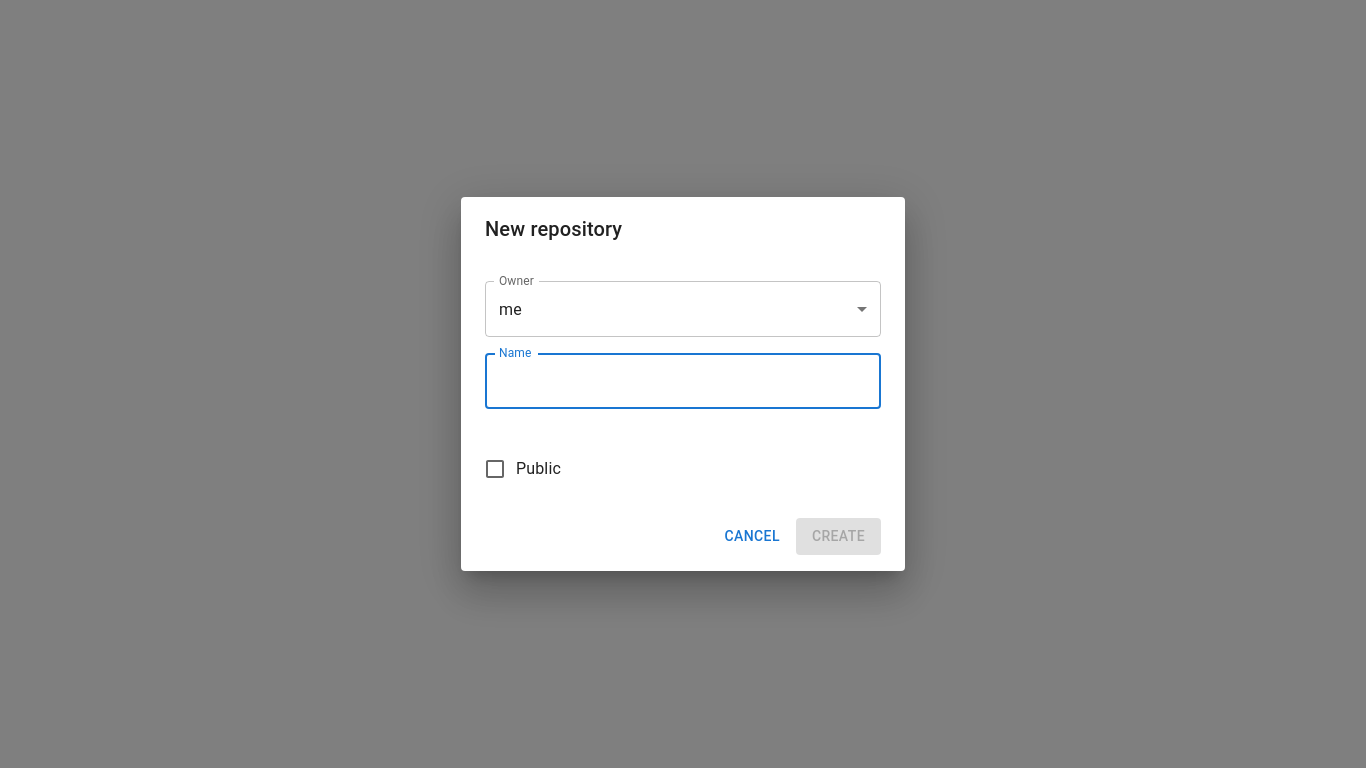
NewRepositoryDialog › validates the name as you type
The width and height of the screenshot is (1366, 768).
Expected: the button "Create" is disabled, [796,518,881,555]
Type "my repo" into the field labelled "Name" at (683, 381), box [485,353,881,409]
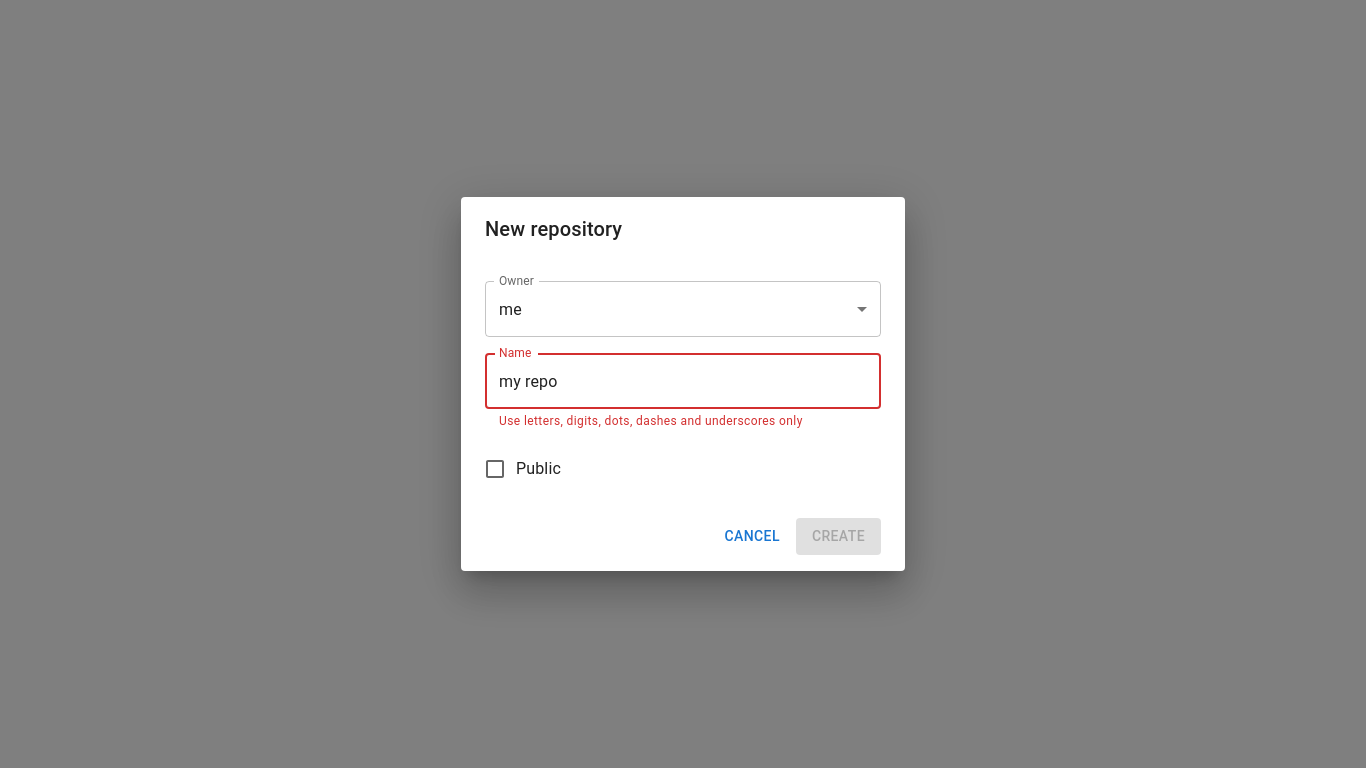
Expected: the button "Create" is disabled, [796,518,881,555]
Now the text "Use letters, digits, dots, dashes and underscores only" is shown, box [499,414,803,428]
Replace the text in the field labelled "Name" with ".hidden" at (683, 381), box [485,353,881,409]
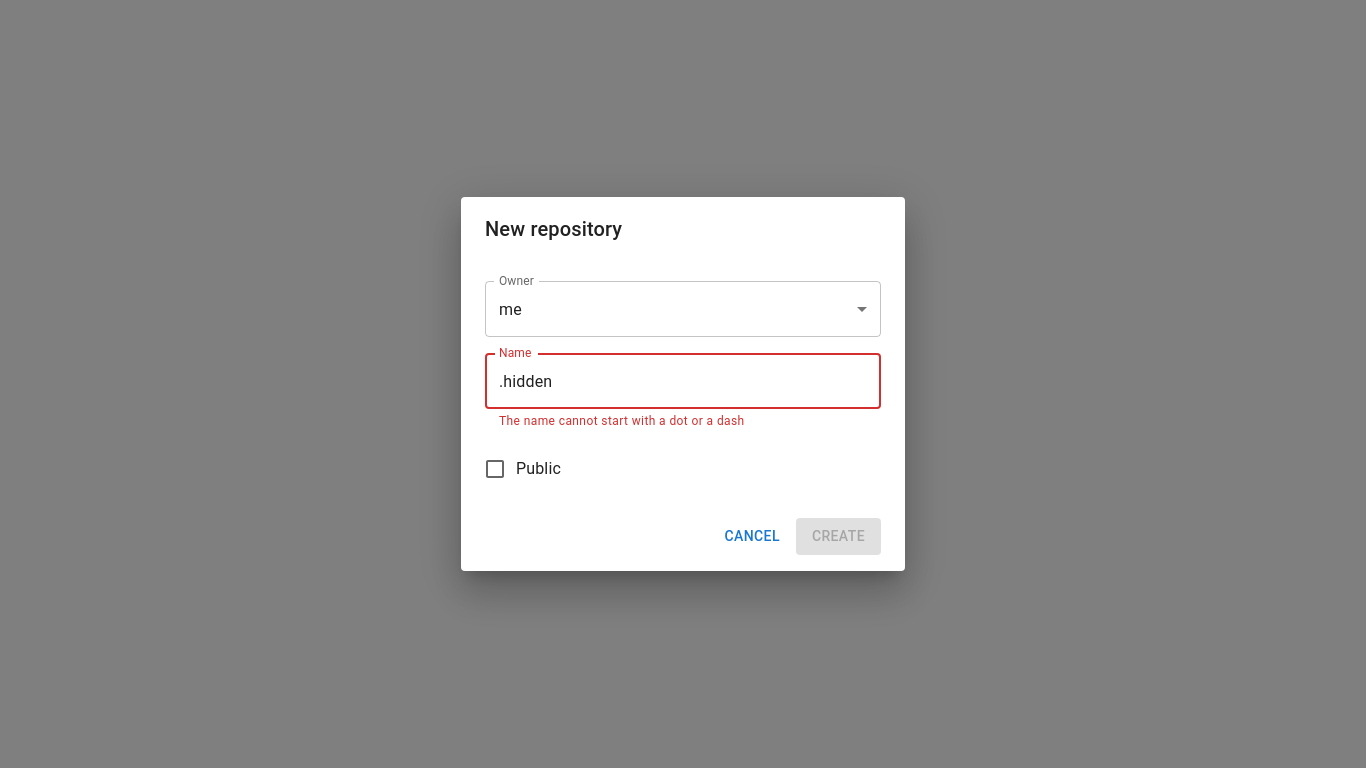
Expected: the button "Create" is disabled, [796,518,881,555]
Now the text "The name cannot start with a dot or a dash" is shown, box [499,414,745,428]
Replace the text in the field labelled "Name" with "demo.git" at (683, 381), box [485,353,881,409]
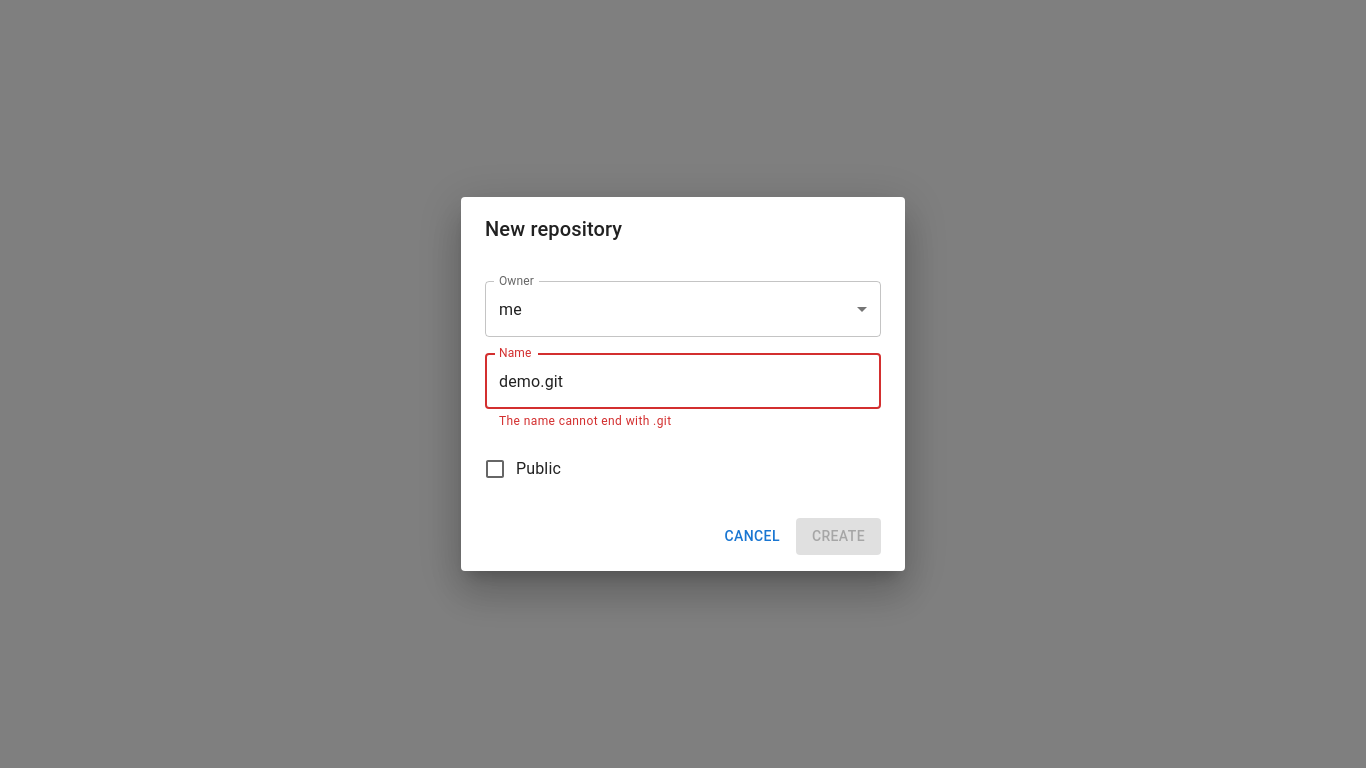
Expected: the button "Create" is disabled, [796,518,881,555]
Now the text "The name cannot end with .git" is shown, box [499,414,672,428]
Replace the text in the field labelled "Name" with "other" at (683, 381), box [485,353,881,409]
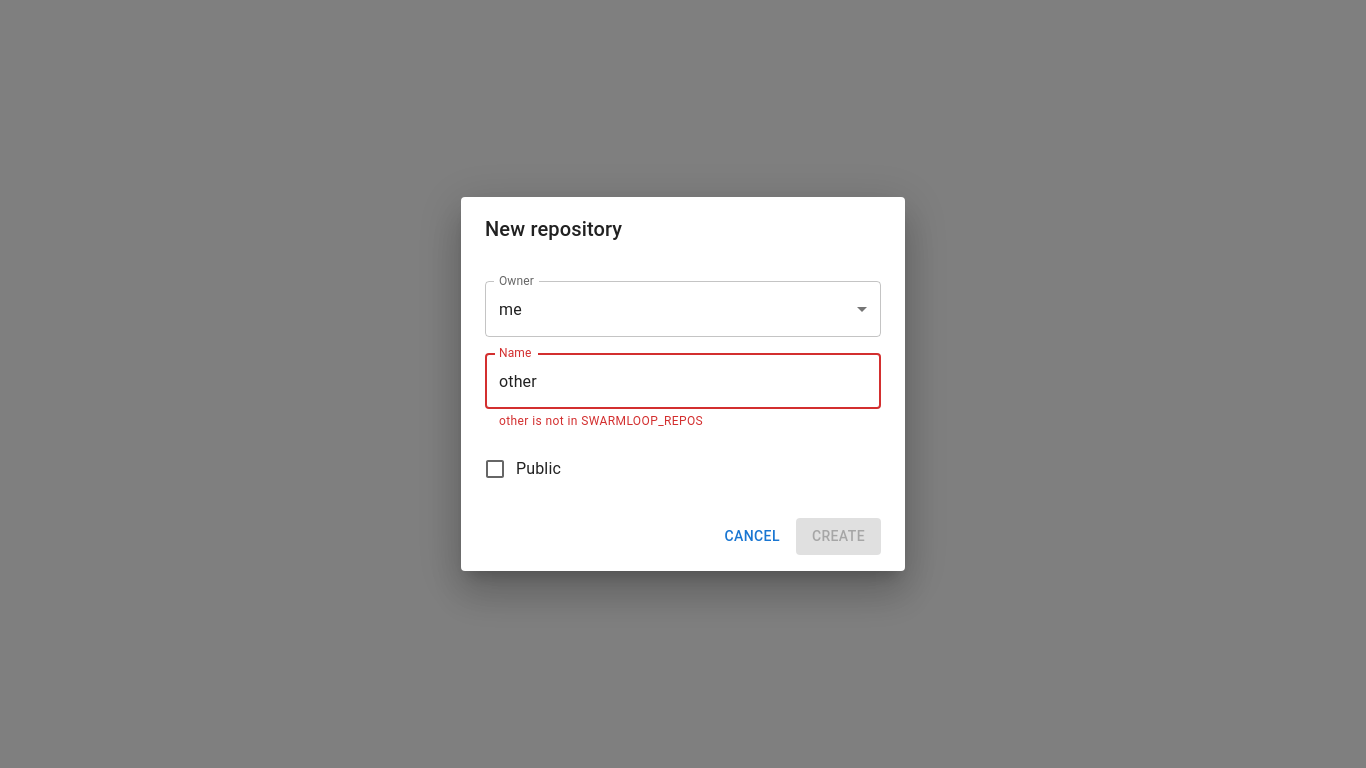
Expected: the button "Create" is disabled, [796,518,881,555]
Now the text "other is not in SWARMLOOP_REPOS" is shown, box [499,414,703,428]
Replace the text in the field labelled "Name" with "demo" at (683, 381), box [485,353,881,409]
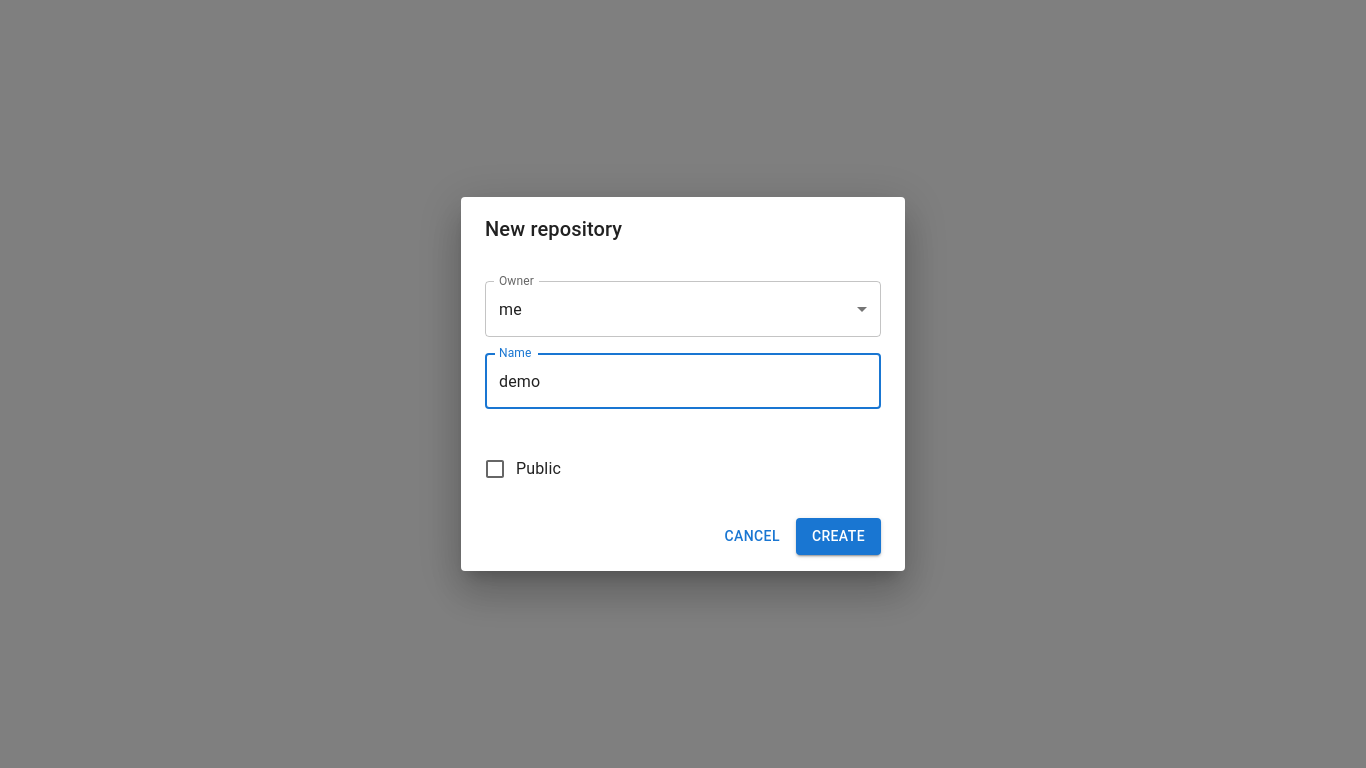
Now the button "Create" is enabled, box [796,518,881,555]
